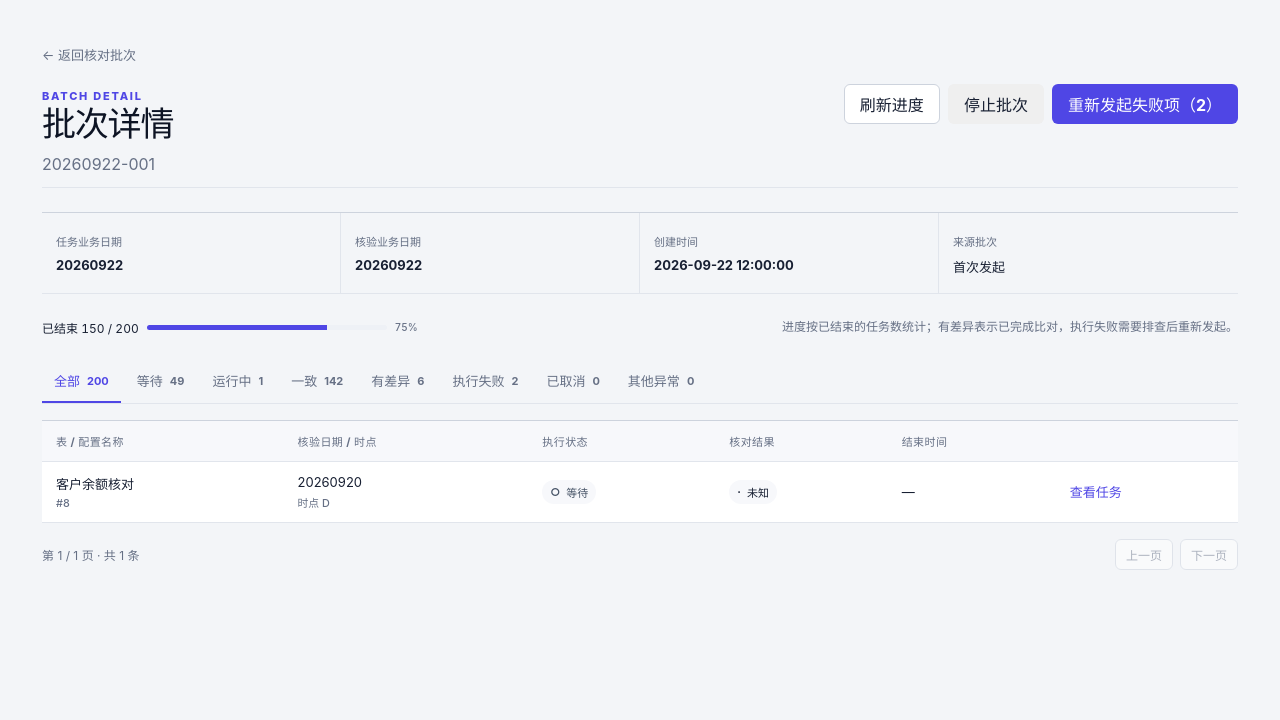
it: stops only after confirmation and shows cancelled tasks
What coordinates should you click on to do the following:
click the button "停止批次"
I would click on:
 (996, 104)
Its box is [948, 84, 1044, 124].
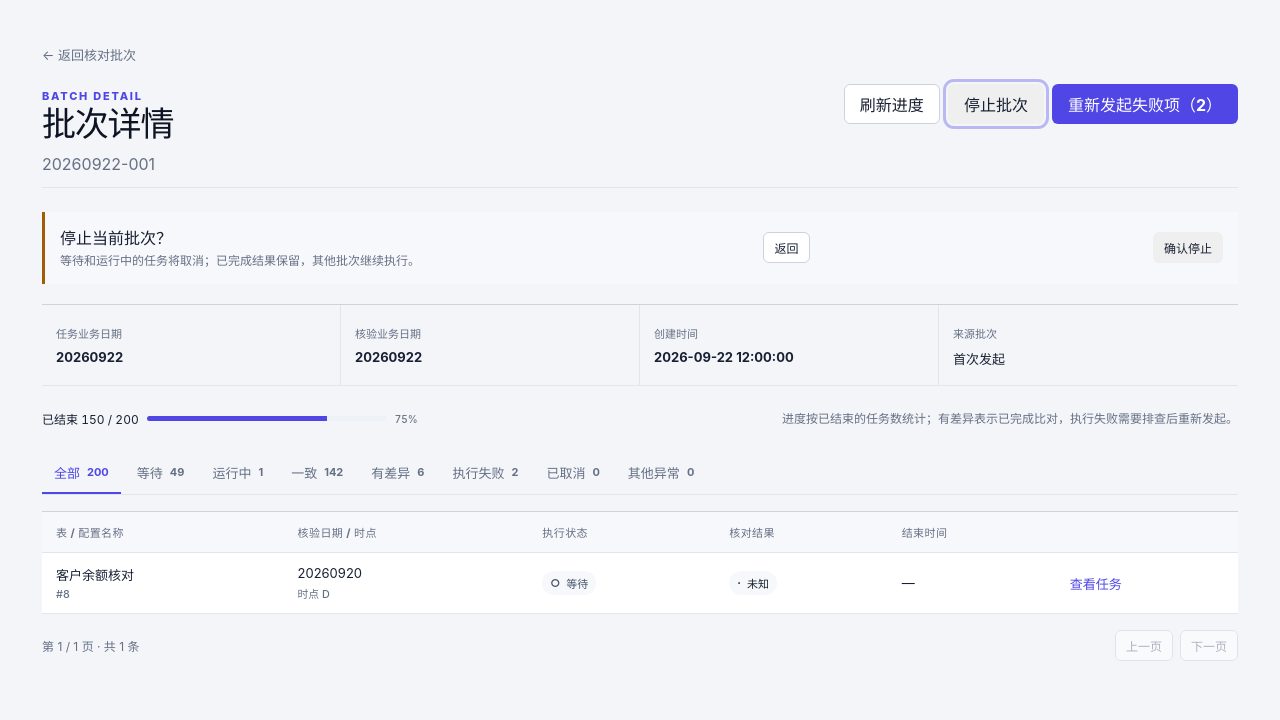
Expected: the text "等待和运行中的任务将取消；已完成结果保留，其他批次继续执行。" is shown, [60, 252, 420, 271]
What coordinates should you click on to do the following:
click the button "确认停止"
I would click on:
 (1188, 248)
Its box is [1153, 232, 1223, 263].
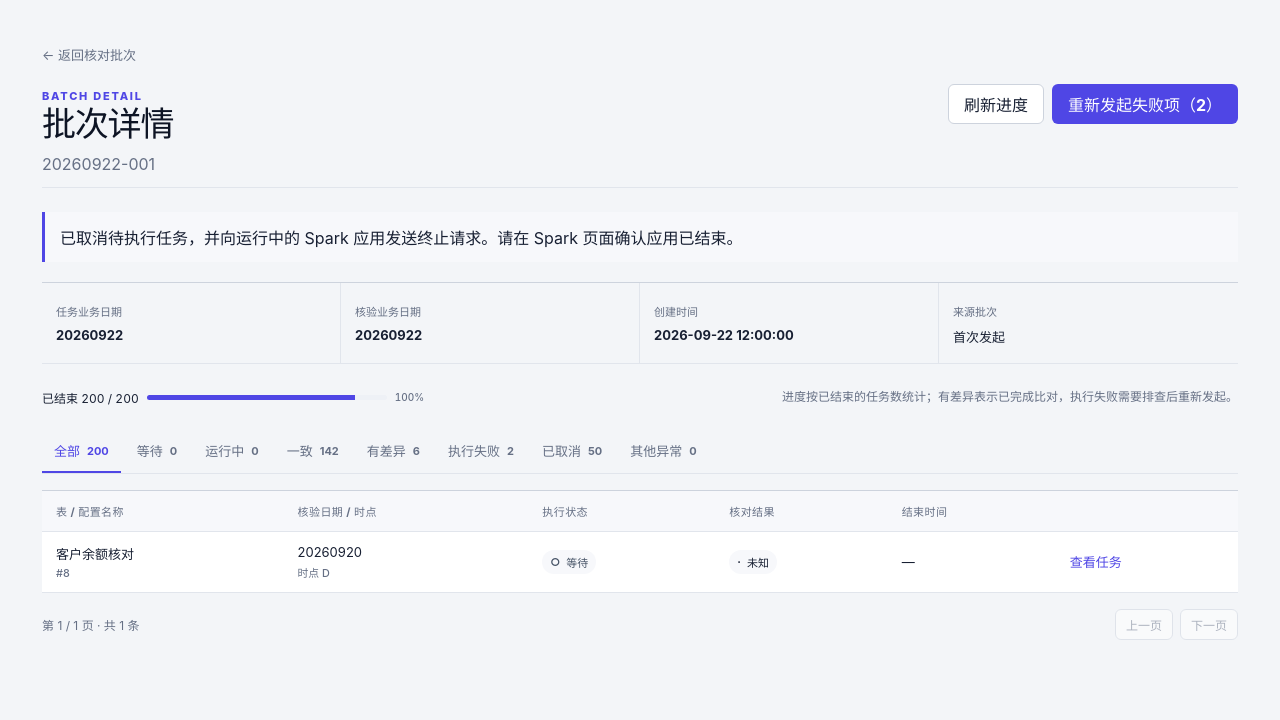
Expected: the button "已取消 50" is shown, [530, 431, 614, 473]
Expected: the button "停止批次" is gone
